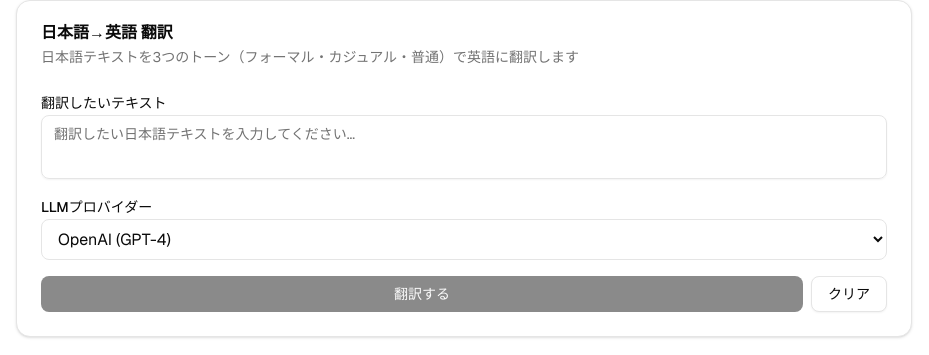
TranslationForm › should enable translate button when input has text
The width and height of the screenshot is (929, 355).
Type "こんにちは" into the text box with placeholder "翻訳したい日本語テキストを入力してください...". click: (464, 147)
box: [41, 115, 887, 179]
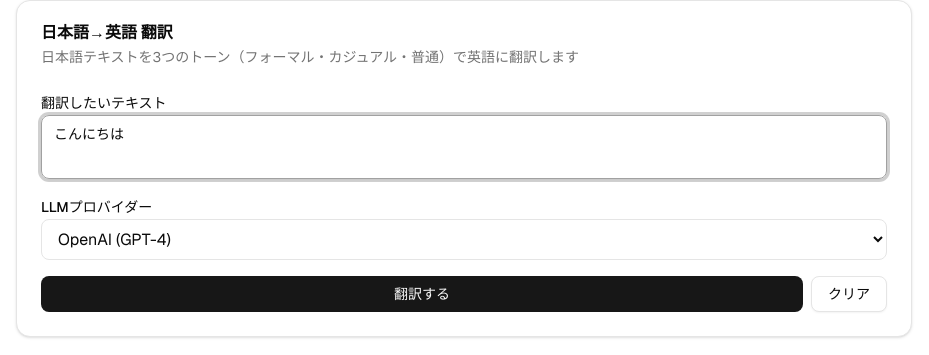
Result: the button "翻訳する" is enabled at [41, 276, 803, 312]
